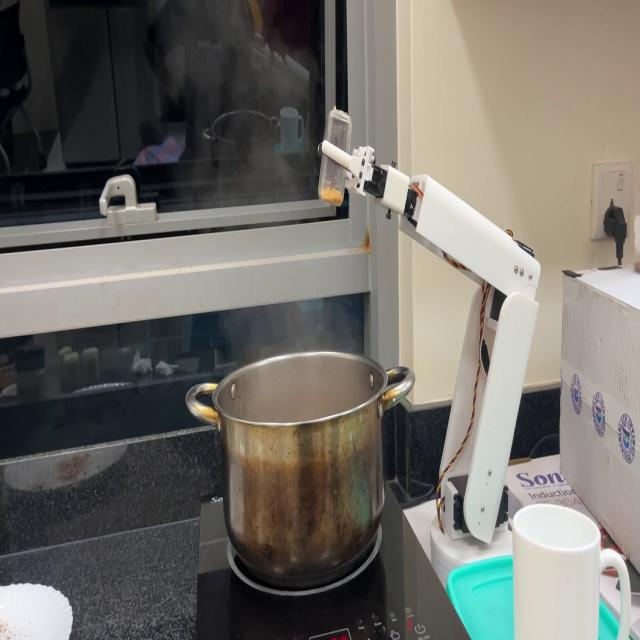cooking_pot: (186, 348, 417, 582)
garlic_powder: (316, 185, 342, 206)
